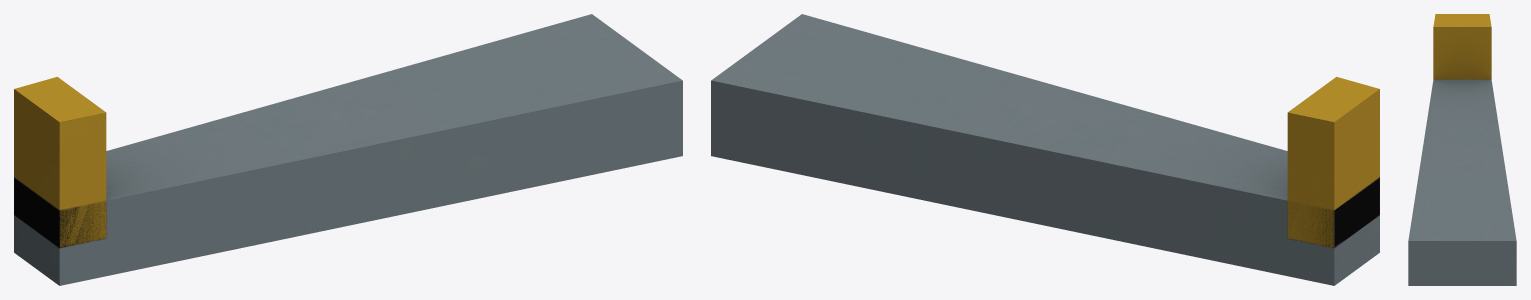
Rendered from collar_plate.glb.
The picture shows the model from 3 angles, left to right: view 1: azimuth 30°, elevation 25°; view 2: azimuth 150°, elevation 25°; view 3: azimuth 270°, elevation 25°; orthographic projection. The views are drawn at different scales.
Parts seen in each view (by area): view 1: panel, edge; view 2: panel, edge; view 3: panel, edge.
Part boxes in pixels (left/top/right/bottom): panel: left=14, top=14, right=682, bottom=285; edge: left=14, top=77, right=106, bottom=247; panel: left=711, top=14, right=1379, bottom=285; edge: left=1287, top=76, right=1379, bottom=247; panel: left=1408, top=79, right=1516, bottom=285; edge: left=1433, top=14, right=1491, bottom=79.
Size of the model in its own units: 0.9979 by 0.26 by 0.2616.
2 materials, 2 textured.
